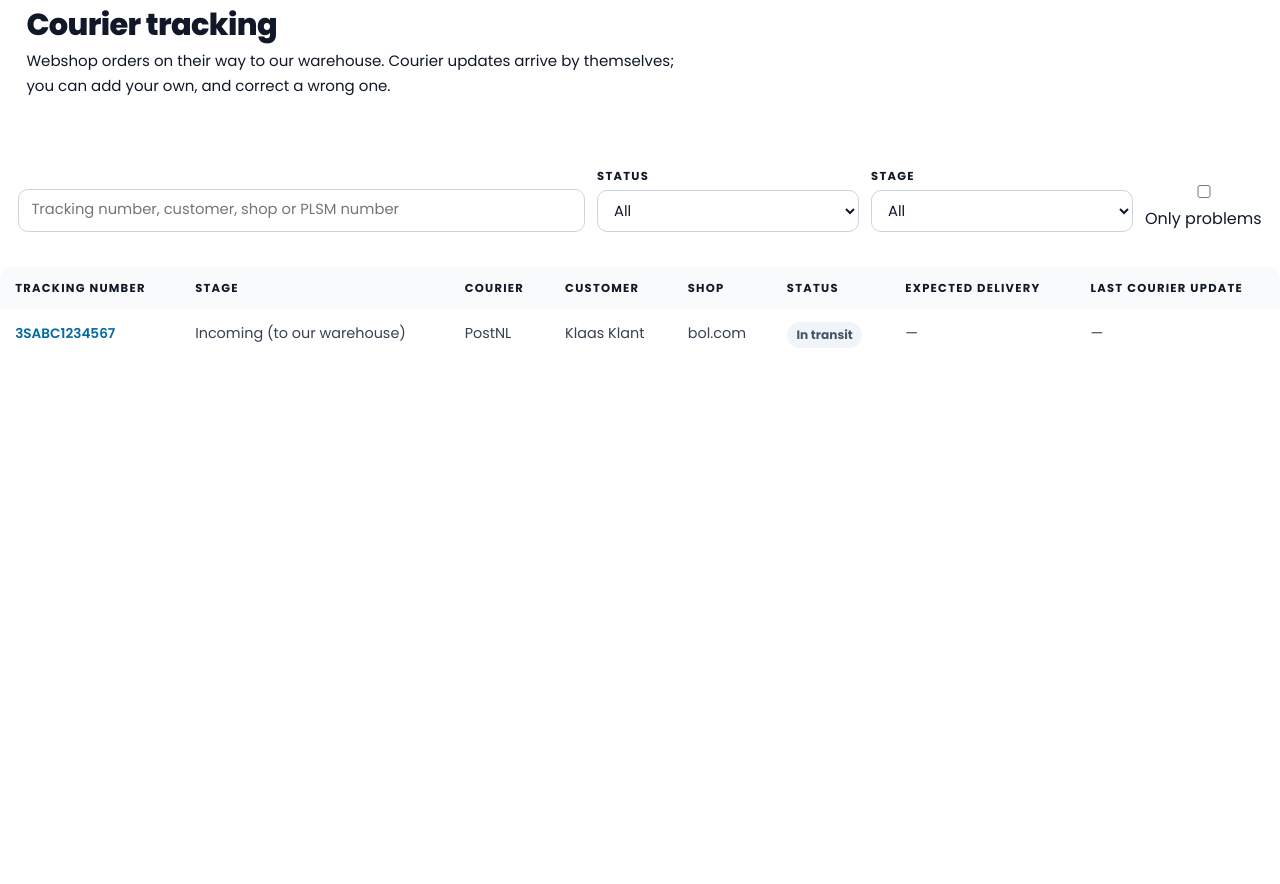
Test: Courier tracking page › does not offer the office-only controls to the warehouse manager
Click the button "3SABC1234567". click: (65, 334)
box: [15,323,115,345]
(page scrolled)
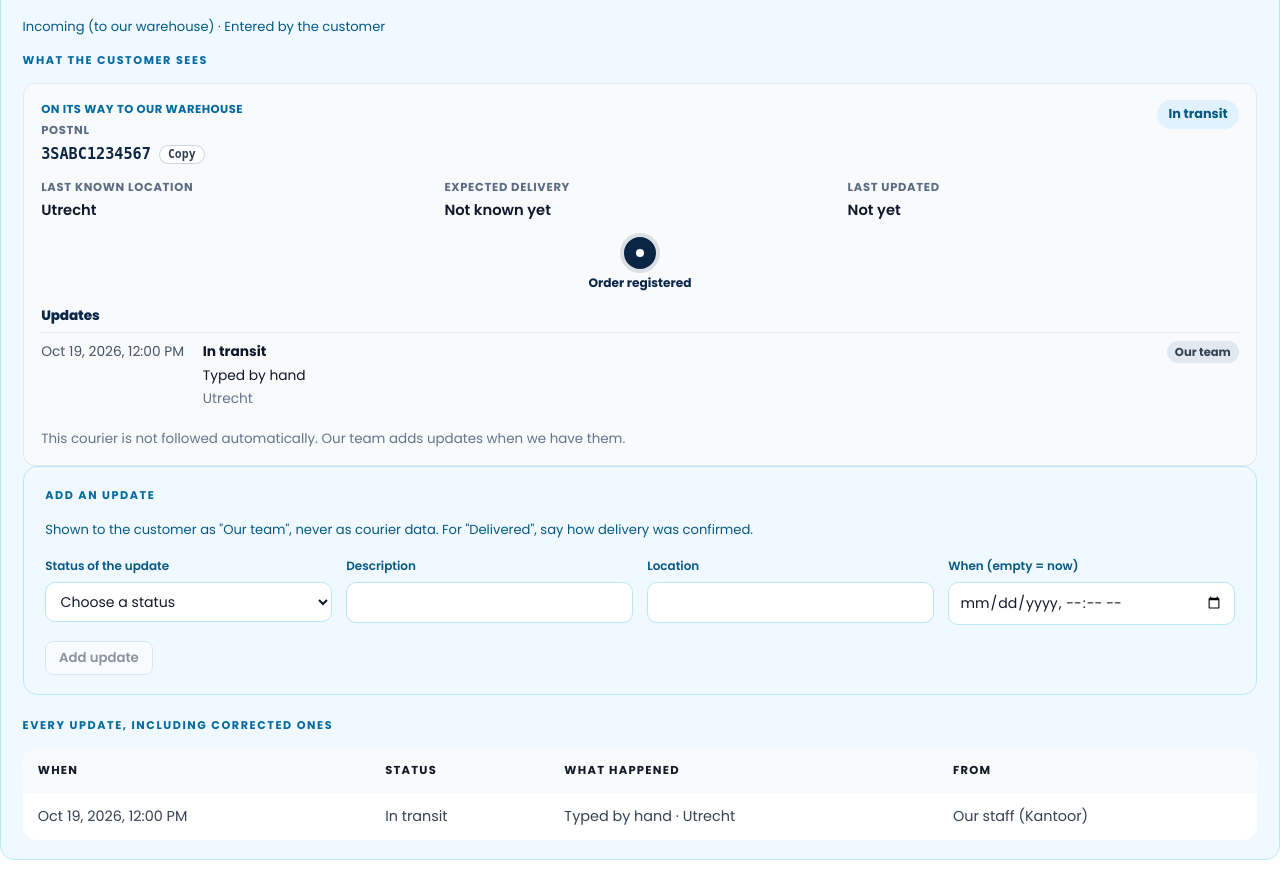
Now the heading "What the customer sees" is shown, box [23,52,208,68]
Now the button "Add update" is shown, box [45,640,152,675]
